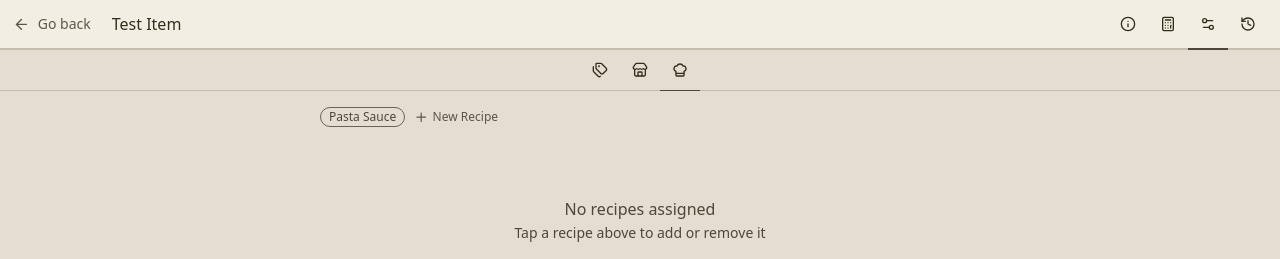
Test case: Recipes Tab › loading state › shows spinner on recipe badge while mutation is in flight
Click the button "Pasta Sauce": [363, 117] box [320,107,405,127]
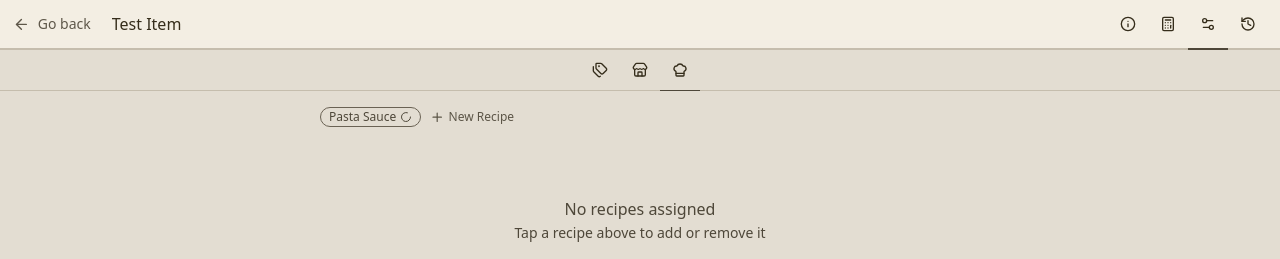
Now the icon with class "animate-spin" is shown, box [400,111,412,123]
